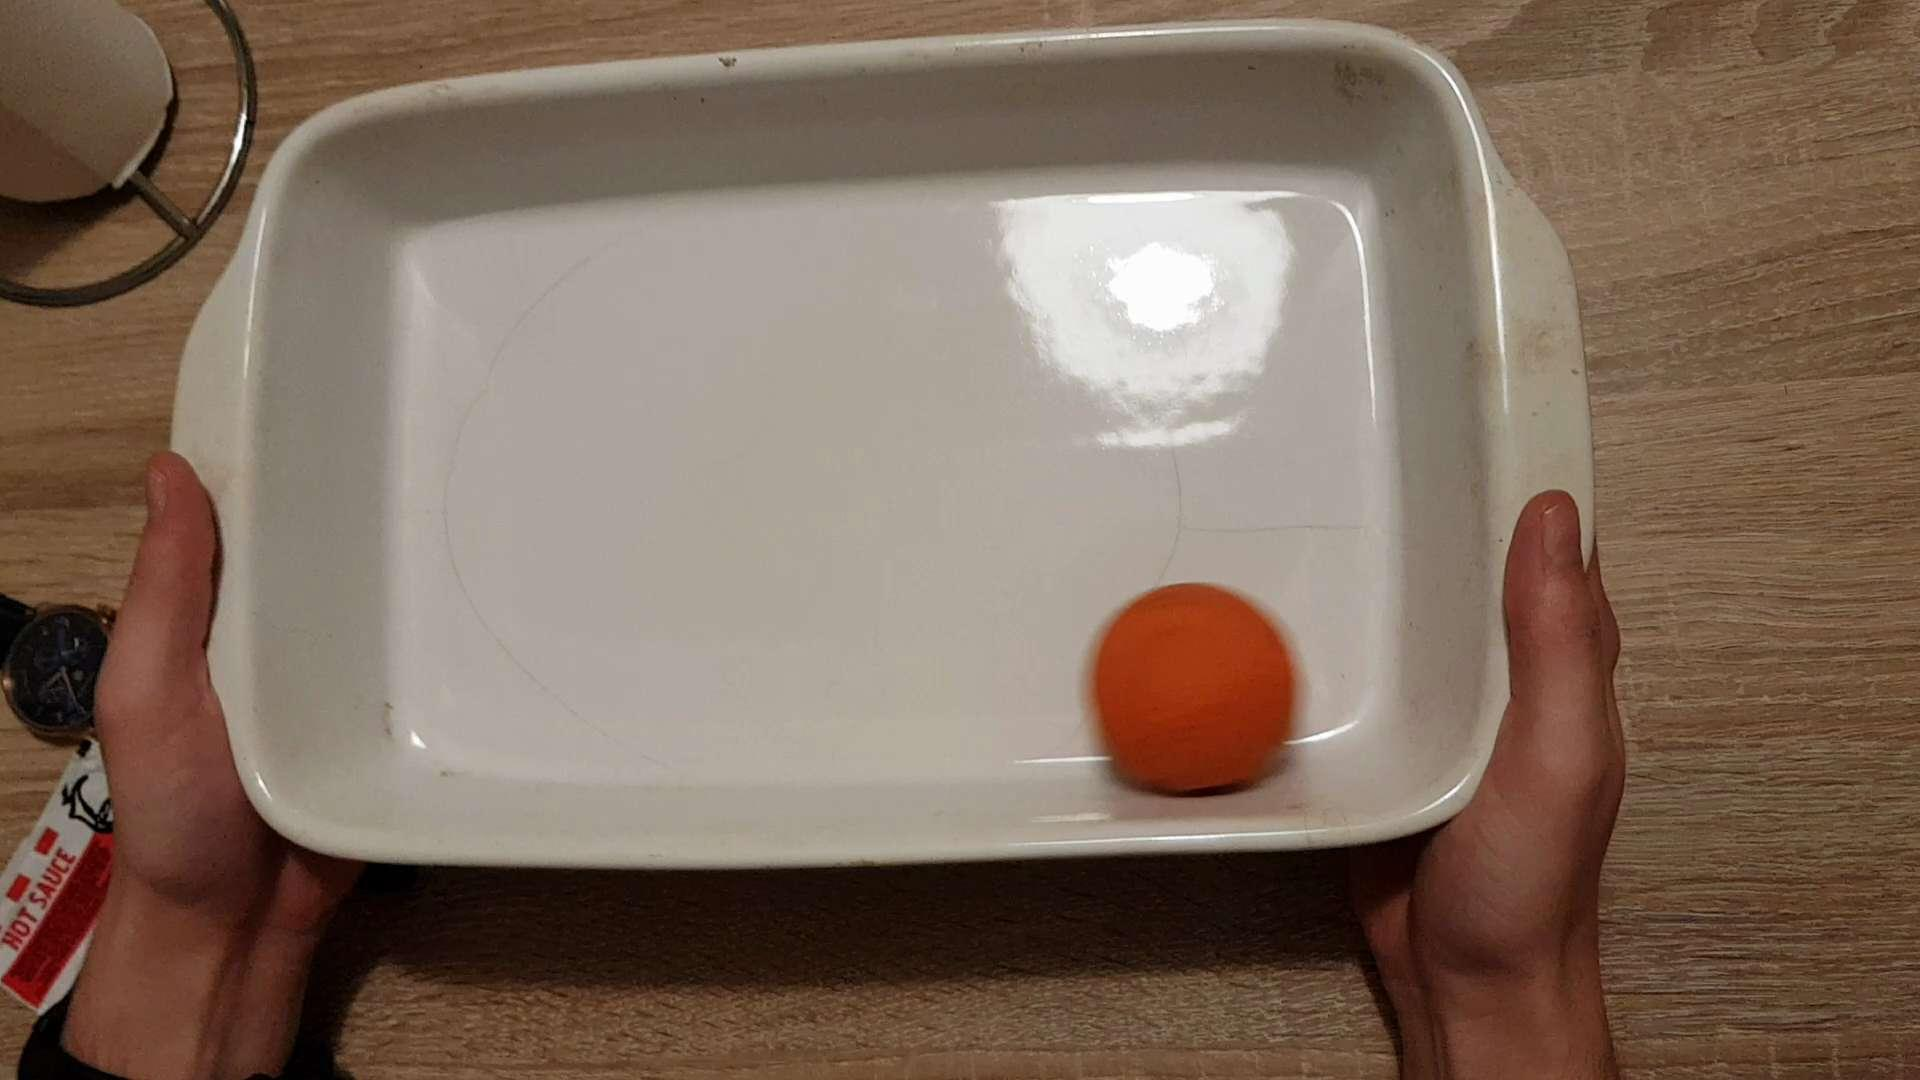Sphere: (1080, 576, 1308, 806)
